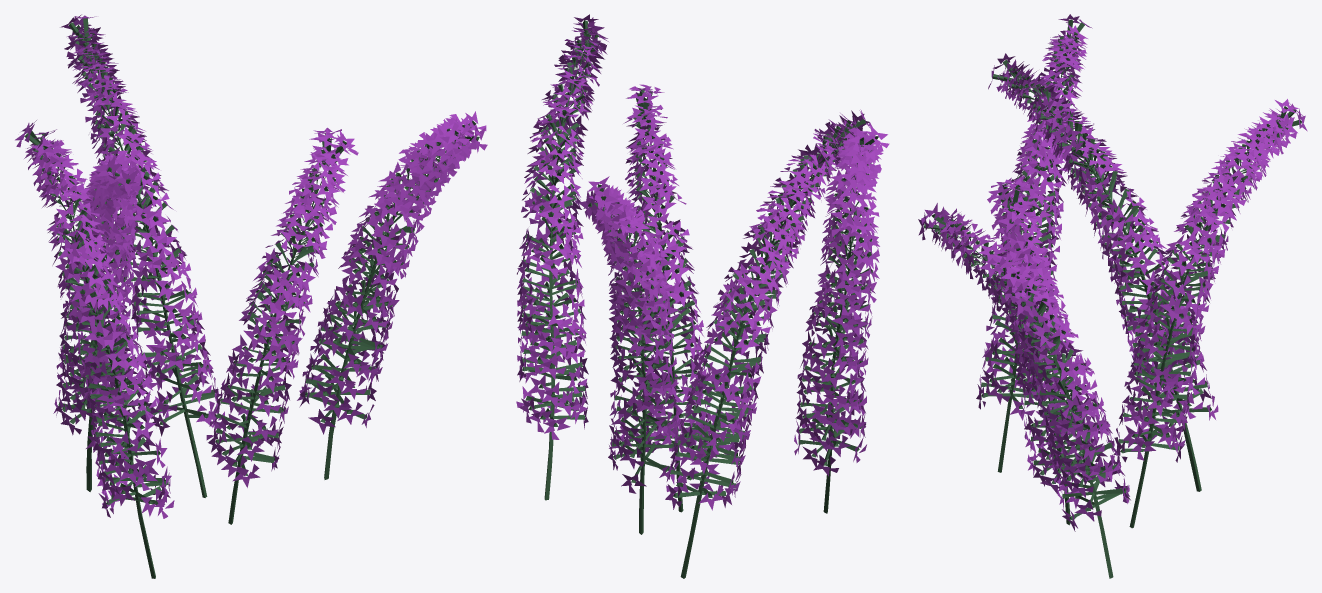
File: Delphinium.fbx
3 renders of one model, left to right at view 1: azimuth 30°, elevation 25°; view 2: azimuth 150°, elevation 25°; view 3: azimuth 270°, elevation 25°, orthographic. The views are drawn at different scales.
Parts seen in each view (by area): view 1: delphinium1Flower, delphinium1Main; view 2: delphinium1Flower, delphinium1Main; view 3: delphinium1Flower, delphinium1Main.
Boxes of the visible parts, x1,y1,x2,y2 form: delphinium1Flower: (15,14,487,518); delphinium1Main: (24,18,479,578); delphinium1Flower: (516,14,889,510); delphinium1Main: (521,20,878,578); delphinium1Flower: (918,14,1307,531); delphinium1Main: (924,19,1301,578).
Size of the model in its own units: 1.71 by 1.85 by 1.55.
